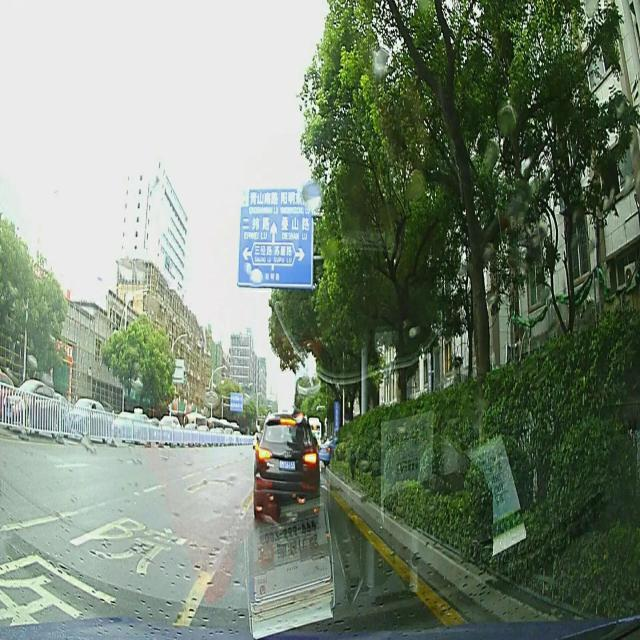car: (250, 410, 322, 523), (5, 378, 60, 434), (68, 398, 108, 443)
